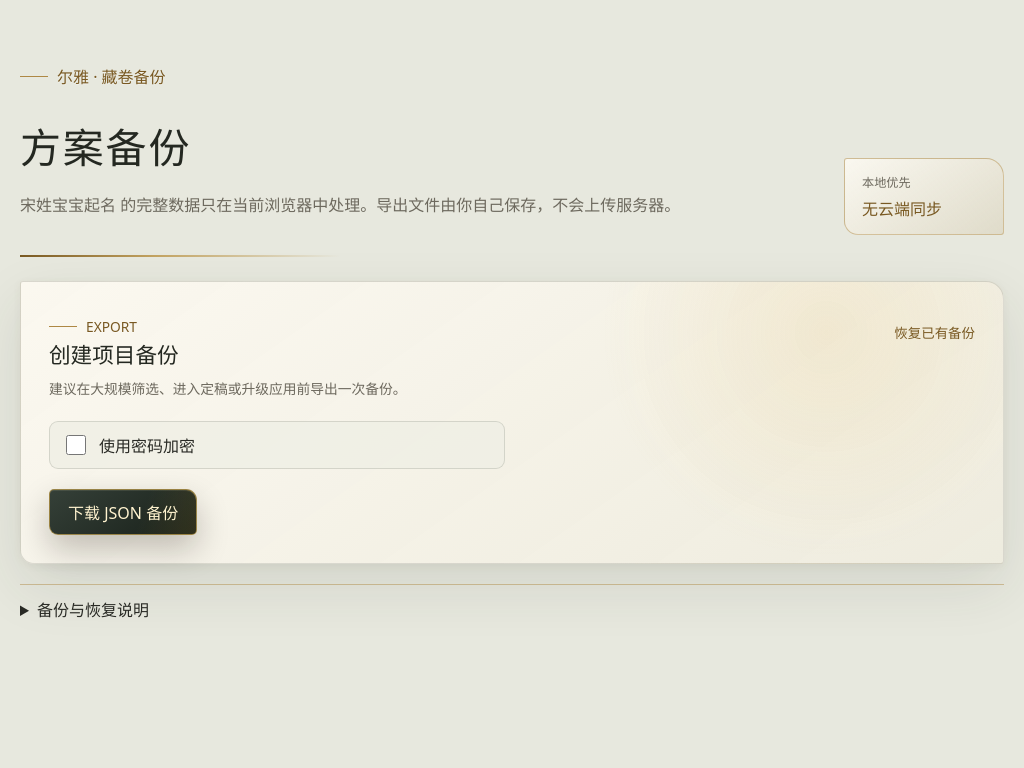
Test: BackupPage › reports an export failure and allows retrying
The image size is (1024, 768).
Click the button "下载 JSON 备份" at (123, 512), box [49,489,197,535]
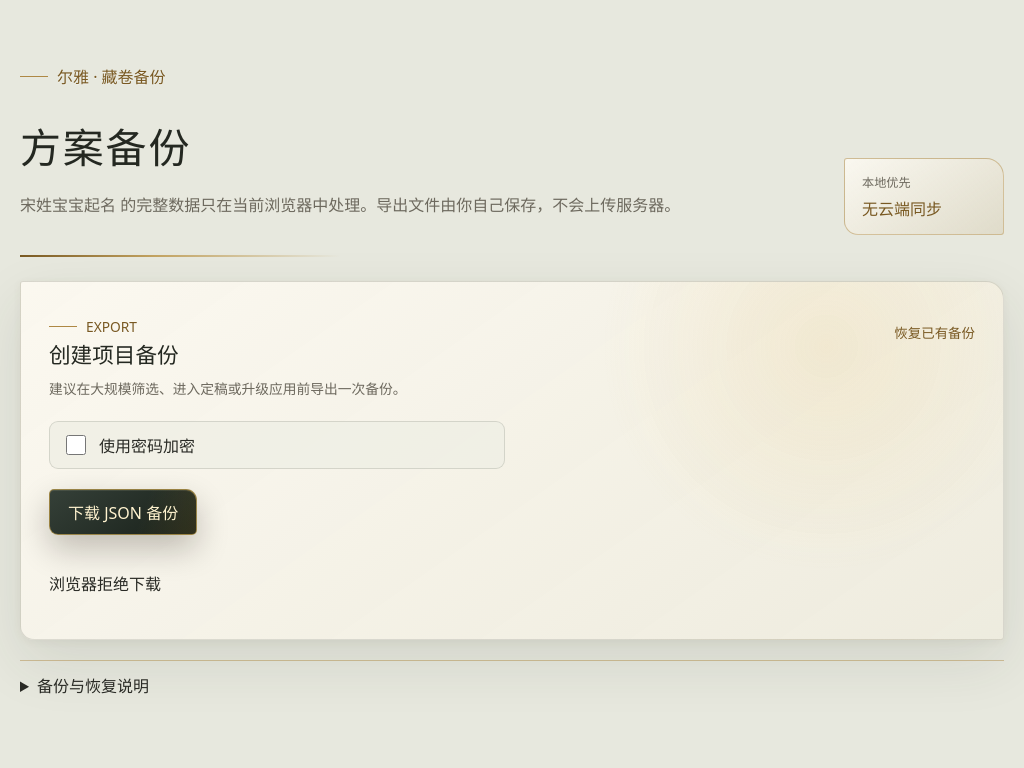
Expected: the message reads "浏览器拒绝下载", [49,573,161,595]
Click the button "下载 JSON 备份" at (123, 512), box [49,489,197,535]
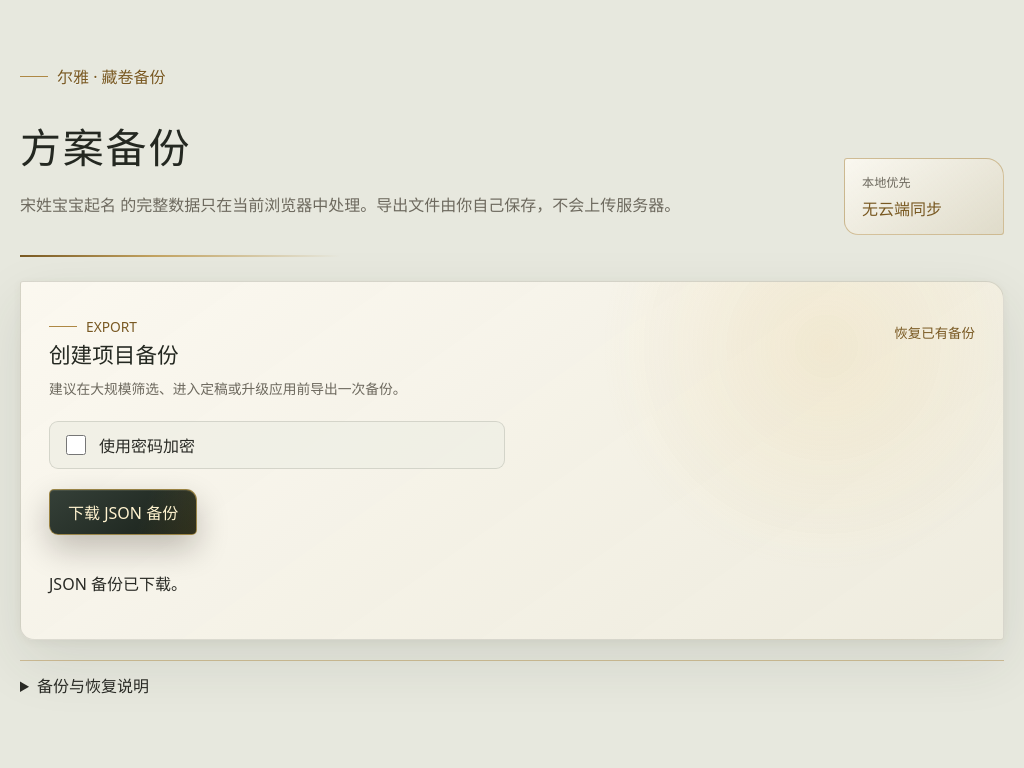
Expected: the message shows "JSON 备份已下载", [49,573,187,595]
